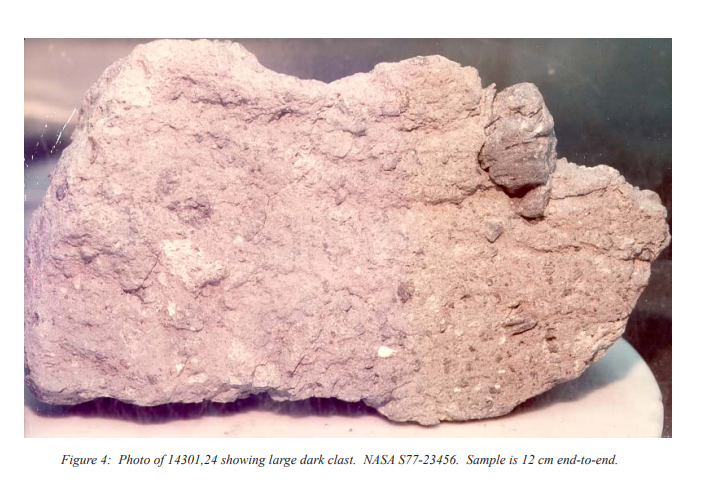Breccia: (26, 55, 664, 437), (353, 44, 670, 403), (223, 140, 564, 430)
